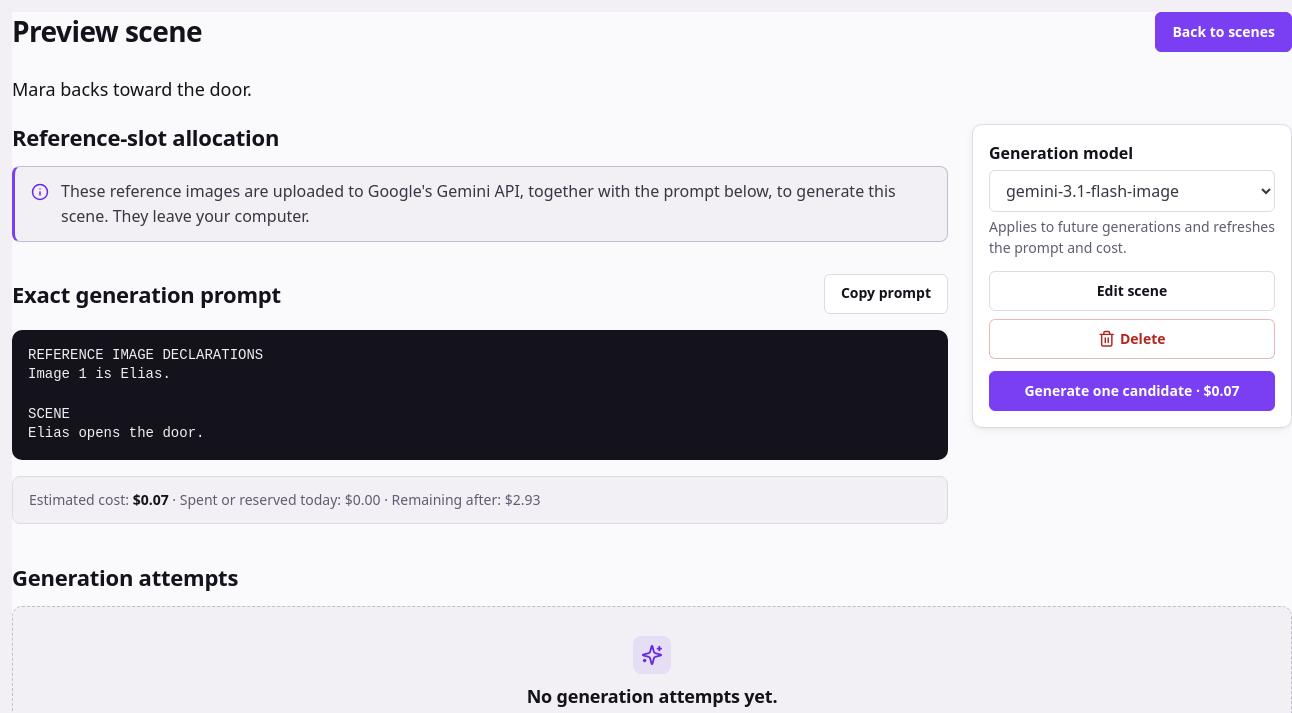
Test: ScenePreviewPage — locked scene duplicate & edit › copies the exact prompt to the clipboard
What coordinates should you click on to do the following:
click the button "Copy prompt"
I would click on:
 (886, 294)
Its box is [824, 274, 948, 314].
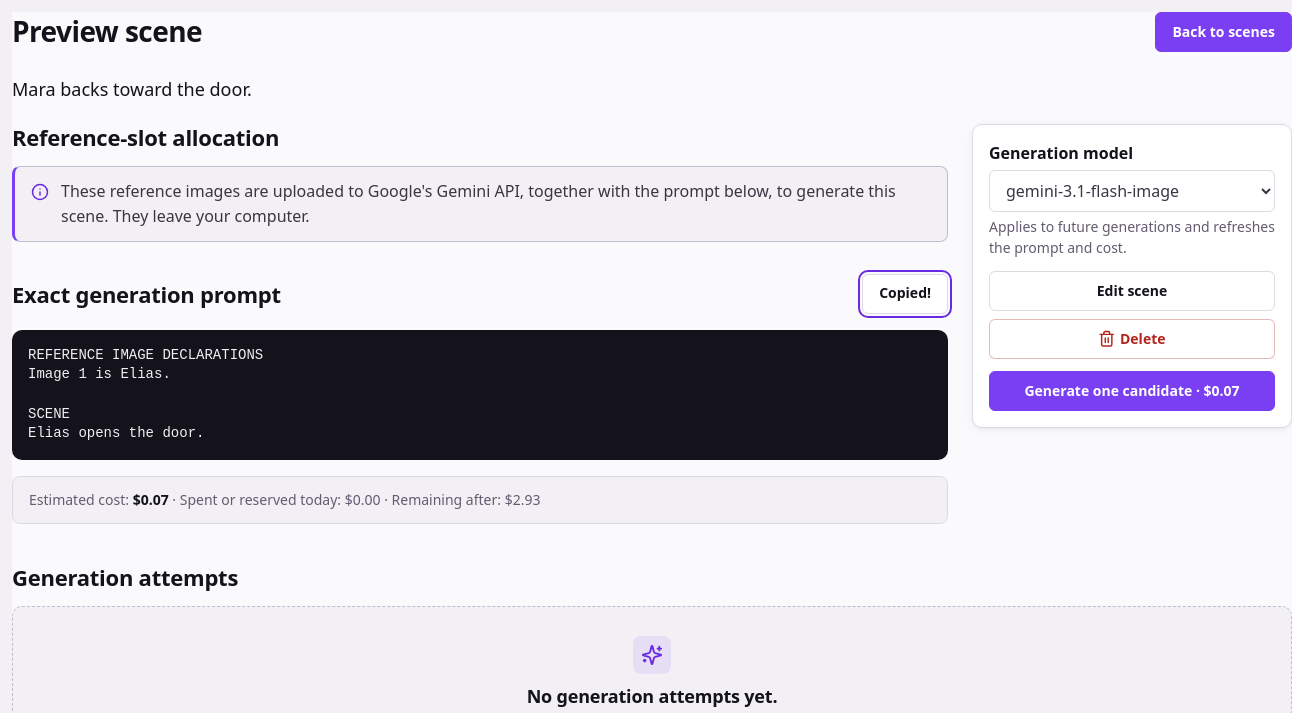
Expected: the button "Copied!" is shown, [862, 274, 948, 314]
